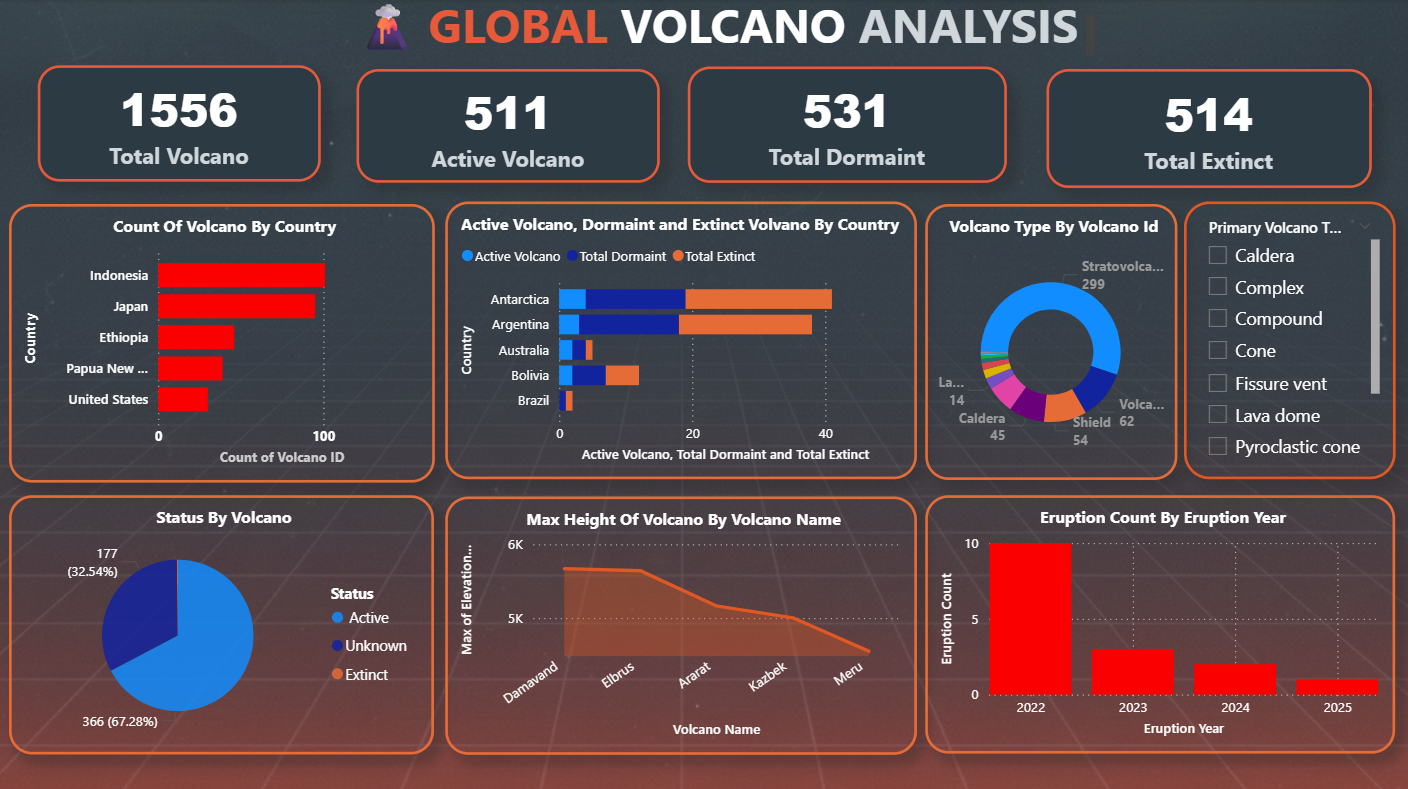

What the dashboard file says about the page in this screenshot:
{"tool":"powerbi","page":{"name":"Page 1","canvas":[1280,720],"ordinal":0},"visuals":[{"type":"card","fields":{"Values":["Volcano_By_Country.Total_Volcano"]},"box":[34.9,60.5,257,105.8],"z":0},{"type":"card","fields":{"Values":["Volcano_By_Country.Active_Volcano"]},"box":[324.4,64,275.6,103.5],"z":1000},{"type":"card","fields":{"Values":["Volcano_By_Country.Total_Extinct"]},"box":[950.5,63.5,294.9,107.8],"z":2000},{"type":"card","fields":{"Values":["Volcano_By_Country.Total_Dormaint"]},"box":[624.4,61.6,289.5,105.8],"z":3000},{"type":"textbox","box":[309.3,0,689.5,55.8],"z":4000},{"type":"clusteredBarChart","title":"Count Of Volcano By Country","fields":{"Category":["Volcano_details.Country"],"Y":["Count(Volcano_details.Volcano ID)"]},"box":[9.1,186,386.8,252.9],"z":5000},{"type":"barChart","title":"Active Volcano, Dormaint and Extinct Volvano By Country","fields":{"Category":["Volcano_By_Country.Country"],"Y":["Volcano_By_Country.Active Volcano","Volcano_By_Country.Total Dormaint","Volcano_By_Country.Total Extinct"]},"box":[404.4,183.3,427.8,252.2],"z":6000},{"type":"pieChart","title":"Status By Volcano","fields":{"Y":["CountNonNull(Volcano_details.Volcano ID)"],"Category":["Volcano_details.Status"]},"box":[8.9,450,385.6,235.6],"z":7000},{"type":"pieChart","title":"Volcano Type By Volcano Id","fields":{"Y":["CountNonNull(Volcano_details.Volcano ID)"],"Category":["Volcano_details.Primary Volcano Type"]},"box":[840,185.6,228.9,250],"z":8000},{"type":"areaChart","title":"Max Height Of Volcano By Volcano Name","fields":{"Category":["Volcano_details.Volcano Name"],"Y":["Max(Volcano_details.Elevation (m))"]},"box":[404.4,451.1,427.8,234.4],"z":9000},{"type":"columnChart","title":"Eruption Count By Eruption Year","fields":{"Category":["Eruption_Details.Eruption Year"],"Y":["Eruption_Details.Eruption Count"]},"box":[840,450,426.7,234.4],"z":10000},{"type":"slicer","fields":{"Values":["Volcano_details.Primary Volcano Type"]},"box":[1075.2,183.7,191.7,251.8],"z":11000}]}

Visuals, with their boxes in screenshot pixels (x1, y1, x2, y2), scaled from the page's 1280x720 canvas onto the 1408x789 screenshot:
card - Volcano_By_Country.Total_Volcano: [38, 66, 321, 182]
card - Volcano_By_Country.Active_Volcano: [357, 70, 660, 184]
card - Volcano_By_Country.Total_Extinct: [1046, 70, 1370, 188]
card - Volcano_By_Country.Total_Dormaint: [687, 68, 1005, 183]
textbox: [340, 0, 1099, 61]
"Count Of Volcano By Country" clusteredBarChart: [10, 204, 435, 481]
"Active Volcano, Dormaint and Extinct Volvano By Country" barChart: [445, 201, 915, 477]
"Status By Volcano" pieChart: [10, 493, 434, 751]
"Volcano Type By Volcano Id" pieChart: [924, 203, 1176, 477]
"Max Height Of Volcano By Volcano Name" areaChart: [445, 494, 915, 751]
"Eruption Count By Eruption Year" columnChart: [924, 493, 1393, 750]
slicer - Volcano_details.Primary Volcano Type: [1183, 201, 1394, 477]
